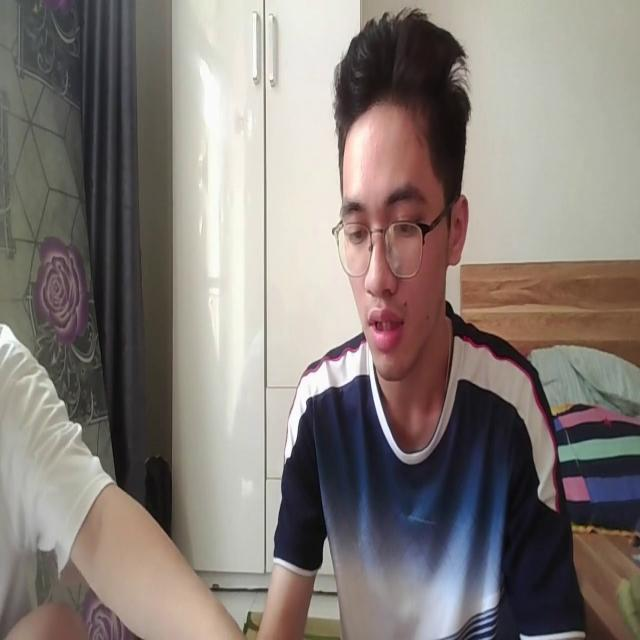extra_person: (0, 304, 258, 640)
student: (256, 3, 585, 640)
